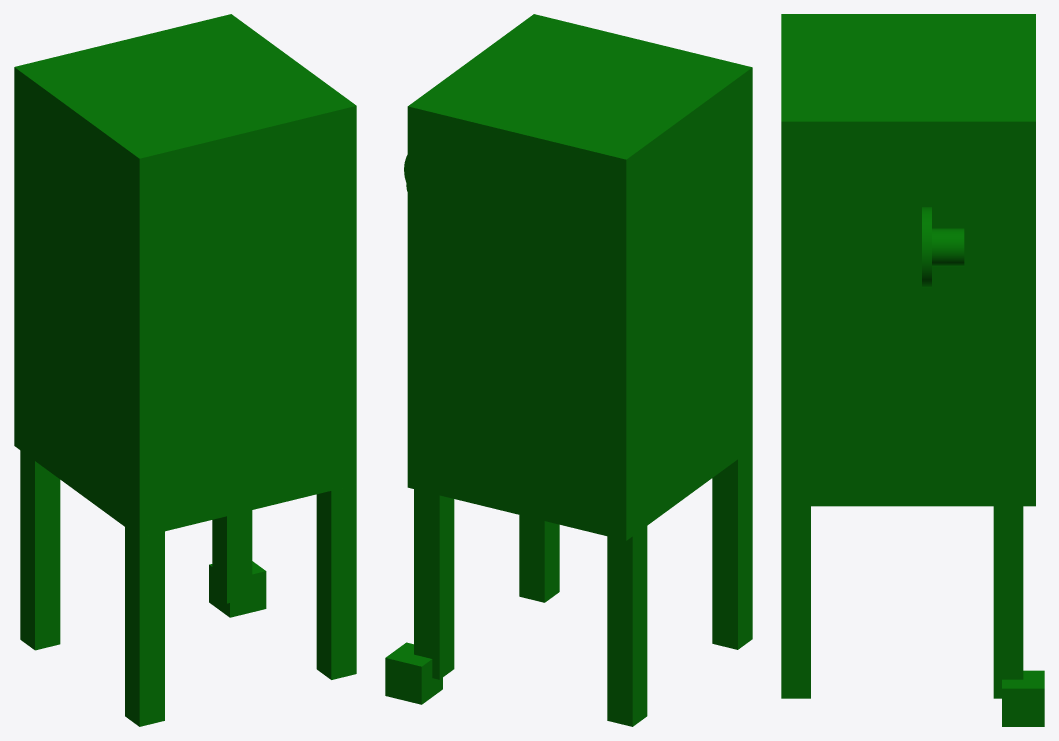
Rendered from Image-1711348112483-2280643573040_71-SM52B.fbx.
3 views of the same model, side by side, from view 1: azimuth 30°, elevation 25°; view 2: azimuth 150°, elevation 25°; view 3: azimuth 270°, elevation 25° (orthographic).
Visible parts, largest first — view 1: BOX 1 of SUBEQUIPMENT /71-SM52B-PRIM, BOX 3 of SUBEQUIPMENT /71-SM52B-PRIM, BOX 2 of SUBEQUIPMENT /71-SM52B-PRIM, BOX 4 of SUBEQUIPMENT /71-SM52B-PRIM, BOX 5 of SUBEQUIPMENT /71-SM52B-PRIM, BOX 1 of SUBEQUIPMENT /71-SM54B; view 2: BOX 1 of SUBEQUIPMENT /71-SM52B-PRIM, BOX 4 of SUBEQUIPMENT /71-SM52B-PRIM, BOX 2 of SUBEQUIPMENT /71-SM52B-PRIM, BOX 5 of SUBEQUIPMENT /71-SM52B-PRIM, BOX 3 of SUBEQUIPMENT /71-SM52B-PRIM, BOX 1 of SUBEQUIPMENT /71-SM54B; view 3: BOX 1 of SUBEQUIPMENT /71-SM52B-PRIM, BOX 3 of SUBEQUIPMENT /71-SM52B-PRIM, BOX 5 of SUBEQUIPMENT /71-SM52B-PRIM, BOX 1 of SUBEQUIPMENT /71-SM54B, /71-SM52B-N1.
Boxes of the visible parts, x1=… form: BOX 1 of SUBEQUIPMENT /71-SM52B-PRIM: x1=14, y1=14, x2=356, y2=537; BOX 3 of SUBEQUIPMENT /71-SM52B-PRIM: x1=316, y1=484, x2=356, y2=679; BOX 2 of SUBEQUIPMENT /71-SM52B-PRIM: x1=125, y1=527, x2=164, y2=726; BOX 4 of SUBEQUIPMENT /71-SM52B-PRIM: x1=20, y1=450, x2=60, y2=650; BOX 5 of SUBEQUIPMENT /71-SM52B-PRIM: x1=212, y1=510, x2=252, y2=603; BOX 1 of SUBEQUIPMENT /71-SM54B: x1=209, y1=561, x2=266, y2=617; BOX 1 of SUBEQUIPMENT /71-SM52B-PRIM: x1=407, y1=14, x2=752, y2=540; BOX 4 of SUBEQUIPMENT /71-SM52B-PRIM: x1=607, y1=526, x2=647, y2=726; BOX 2 of SUBEQUIPMENT /71-SM52B-PRIM: x1=712, y1=449, x2=752, y2=649; BOX 5 of SUBEQUIPMENT /71-SM52B-PRIM: x1=414, y1=489, x2=454, y2=679; BOX 3 of SUBEQUIPMENT /71-SM52B-PRIM: x1=519, y1=515, x2=559, y2=602; BOX 1 of SUBEQUIPMENT /71-SM54B: x1=385, y1=642, x2=442, y2=704; BOX 1 of SUBEQUIPMENT /71-SM52B-PRIM: x1=781, y1=14, x2=1035, y2=506; BOX 3 of SUBEQUIPMENT /71-SM52B-PRIM: x1=781, y1=506, x2=810, y2=698; BOX 5 of SUBEQUIPMENT /71-SM52B-PRIM: x1=993, y1=506, x2=1023, y2=698; BOX 1 of SUBEQUIPMENT /71-SM54B: x1=1002, y1=670, x2=1044, y2=726; /71-SM52B-N1: x1=922, y1=207, x2=964, y2=287.
Size of the model in its own units: 0.752 by 0.62 by 1.55.
